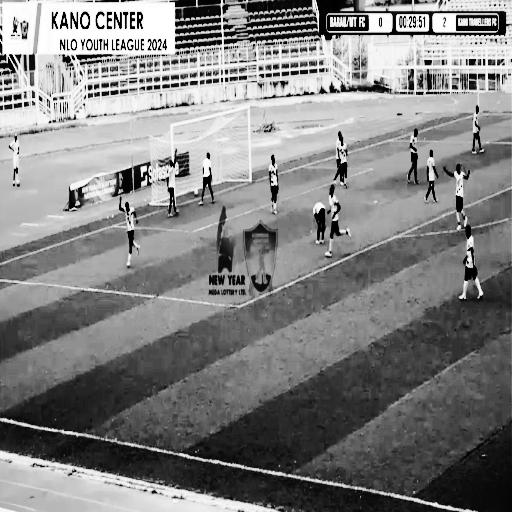ball: (191, 180, 200, 198)
keeper2: (200, 147, 222, 208)
team1: (116, 186, 146, 273), (460, 221, 488, 306), (444, 161, 474, 235), (326, 184, 352, 260), (264, 149, 285, 222), (340, 132, 348, 190)
team2: (164, 146, 185, 219), (404, 126, 423, 192), (469, 100, 487, 167), (424, 146, 441, 209), (312, 196, 328, 248), (332, 122, 342, 186)
